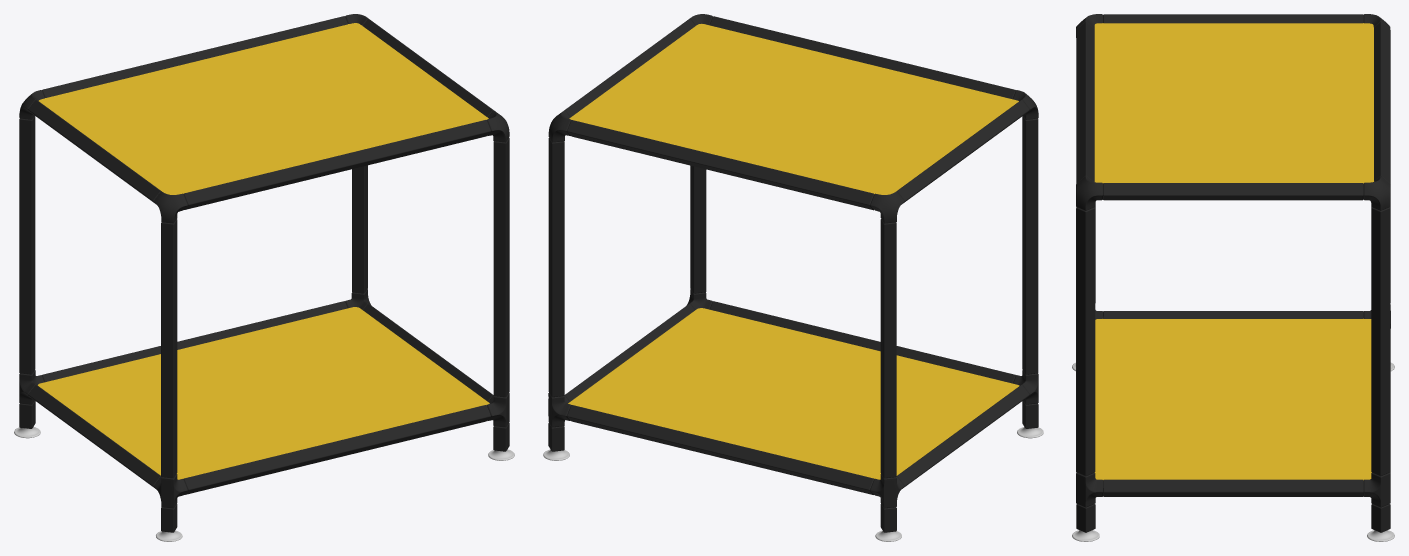
3 renders of one model, left to right at view 1: azimuth 30°, elevation 25°; view 2: azimuth 150°, elevation 25°; view 3: azimuth 270°, elevation 25°, orthographic. The views are drawn at different scales.
Parts seen in each view (by area): view 1: 523x374x420; view 2: 523x374x420; view 3: 523x374x420.
Part boxes in pixels (x1,y1,x2,y2): 523x374x420: (14, 14, 514, 541); 523x374x420: (543, 14, 1043, 541); 523x374x420: (1072, 14, 1394, 541).
Bounding box in the file's own units: 0.6129 × 0.5594 × 0.4632.
